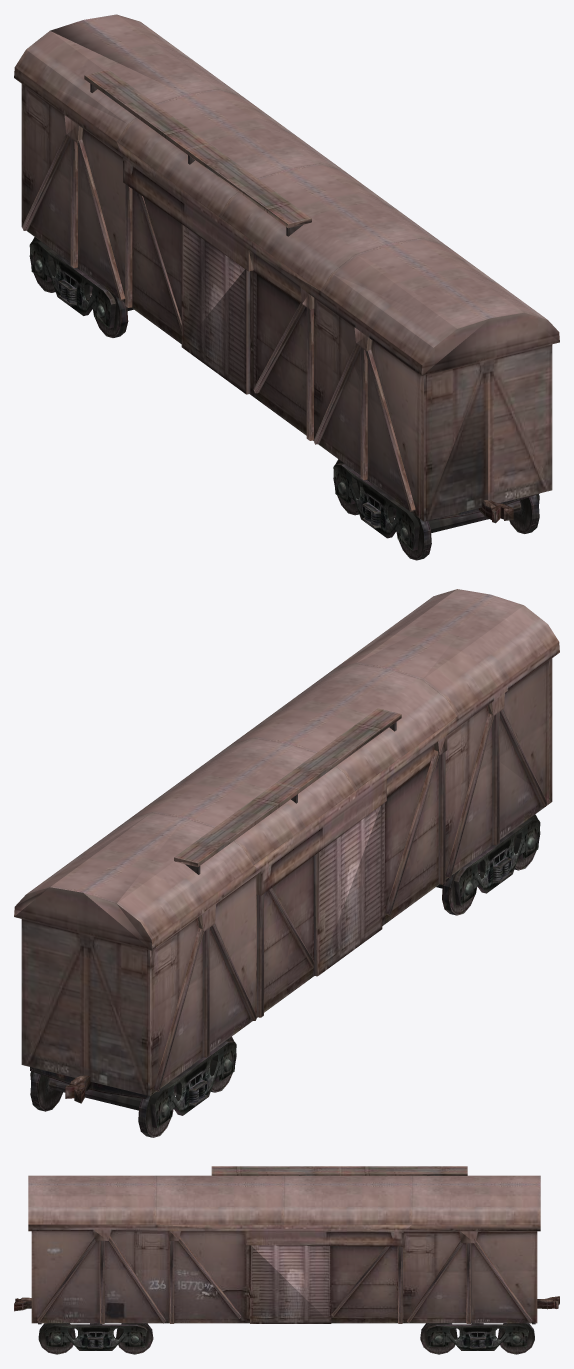
File: railcar.glb
The picture shows the model from 3 angles, top to bottom: view 1: azimuth 30°, elevation 25°; view 2: azimuth 150°, elevation 25°; view 3: azimuth 270°, elevation 25°; orthographic projection. The views are drawn at different scales.
Parts seen in each view (by area): view 1: train_vagon_01_veh_vagon1_01_diff_tga_0; view 2: train_vagon_01_veh_vagon1_01_diff_tga_0; view 3: train_vagon_01_veh_vagon1_01_diff_tga_0.
Part boxes in pixels (left/top/right/bottom): train_vagon_01_veh_vagon1_01_diff_tga_0: left=14, top=14, right=559, bottom=560; train_vagon_01_veh_vagon1_01_diff_tga_0: left=14, top=589, right=559, bottom=1137; train_vagon_01_veh_vagon1_01_diff_tga_0: left=14, top=1166, right=559, bottom=1354.
Size of the model in its own units: 4.42 by 7.44 by 24.
2 materials, 2 textured.
